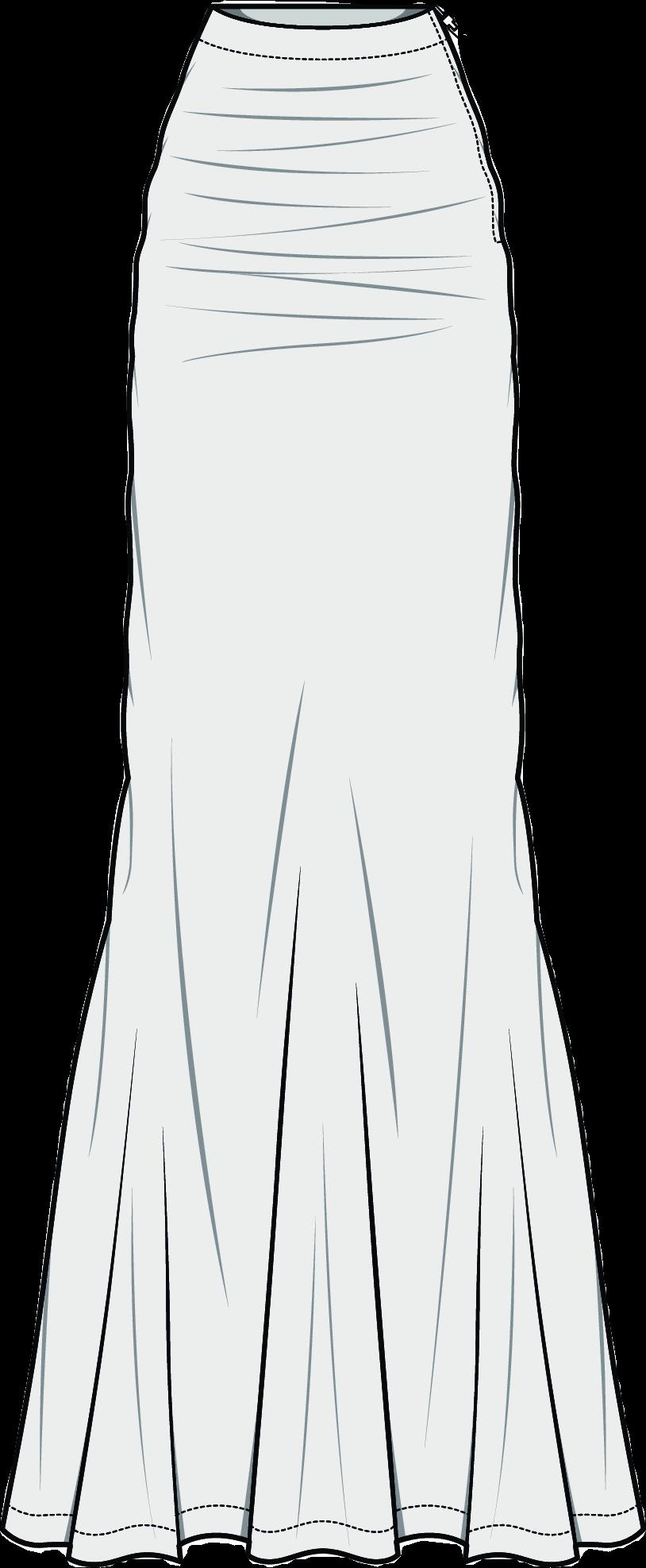Hemline: (0, 1517, 645, 1567)
Waistline: (209, 0, 446, 39)
